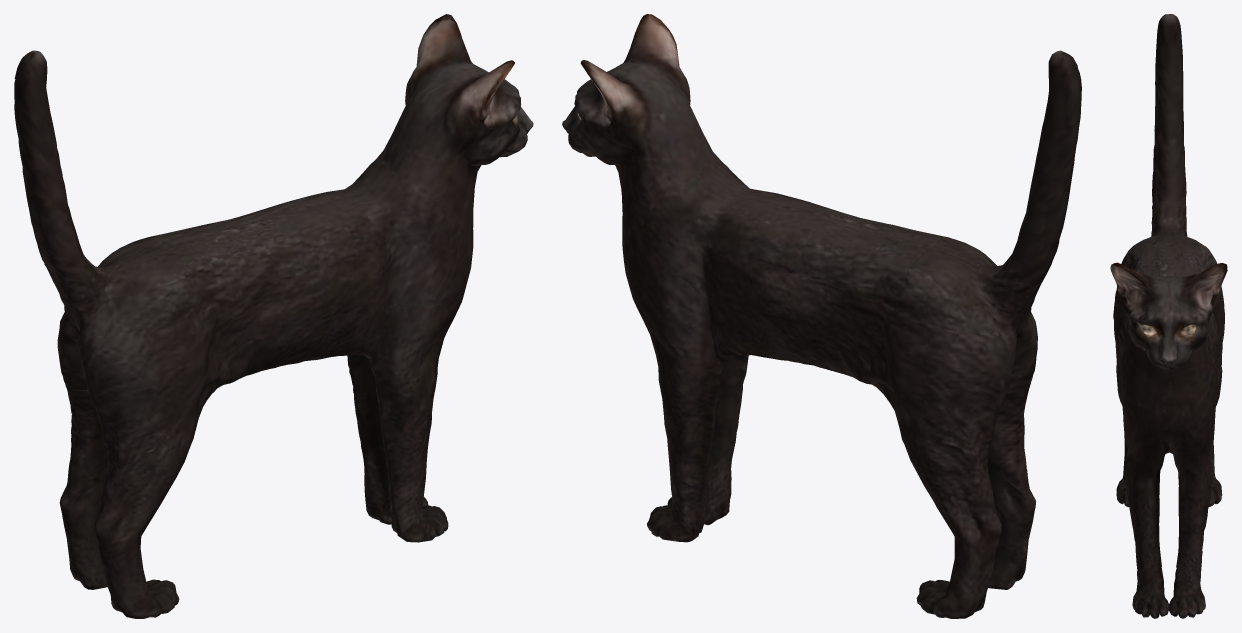
The model's file is HODGECAT-lo.glb.
3 renders of one model, left to right at view 1: azimuth 30°, elevation 25°; view 2: azimuth 150°, elevation 25°; view 3: azimuth 270°, elevation 25°, orthographic. The views are drawn at different scales.
Parts seen in each view (by area): view 1: tripo_node_ce3a1dbc-93c3-4023-9754-3fca017a0be0; view 2: tripo_node_ce3a1dbc-93c3-4023-9754-3fca017a0be0; view 3: tripo_node_ce3a1dbc-93c3-4023-9754-3fca017a0be0.
Boxes of the visible parts, box(x1,y1,x2,y2) form: tripo_node_ce3a1dbc-93c3-4023-9754-3fca017a0be0: box(14, 14, 533, 618); tripo_node_ce3a1dbc-93c3-4023-9754-3fca017a0be0: box(562, 14, 1081, 618); tripo_node_ce3a1dbc-93c3-4023-9754-3fca017a0be0: box(1110, 14, 1227, 618).
Size of the model in its own units: 0.9535 by 0.9989 by 0.2351.
1 material, 1 textured.
